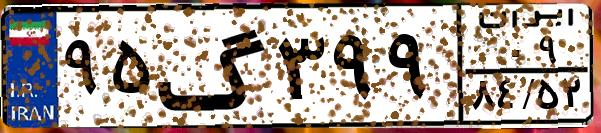0: (508, 27, 537, 80)
2: (560, 70, 590, 125)
3: (270, 28, 330, 110)
4: (495, 70, 520, 125)
5: (110, 28, 156, 98), (535, 70, 560, 125)
8: (470, 70, 495, 125)
9: (385, 28, 445, 110), (330, 28, 385, 110), (57, 26, 110, 100), (537, 27, 568, 80)
گ: (156, 12, 270, 120)
